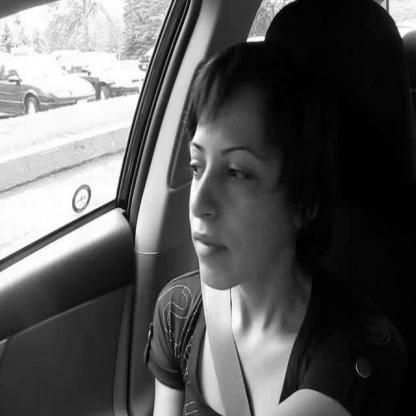seatbelt: (168, 38, 330, 416)
